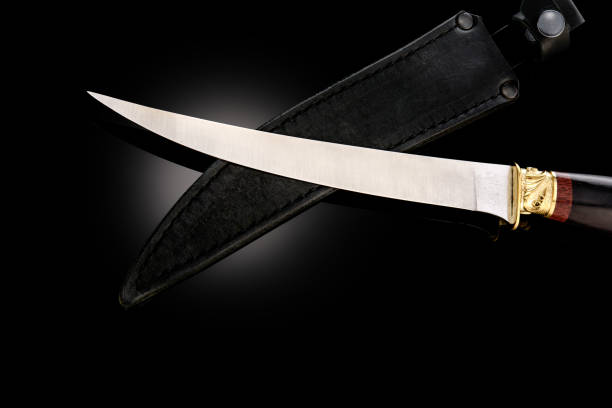knife: (84, 88, 612, 235)
